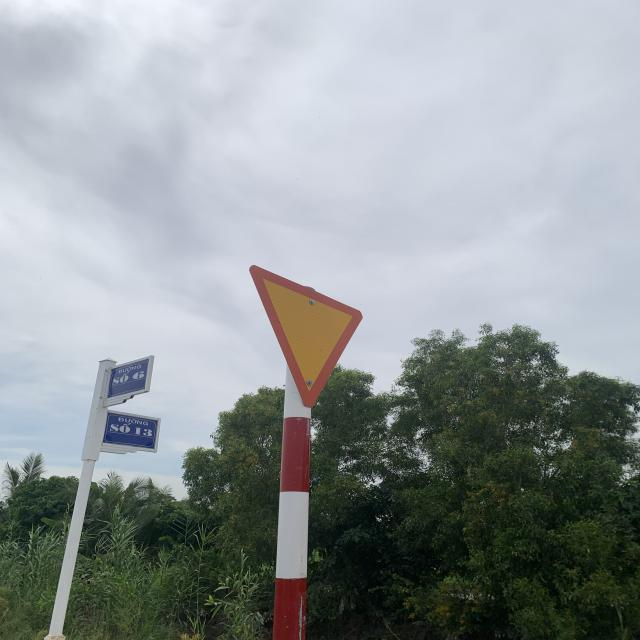Gioi_Han_Toc_Do_25: (249, 265, 362, 405)
